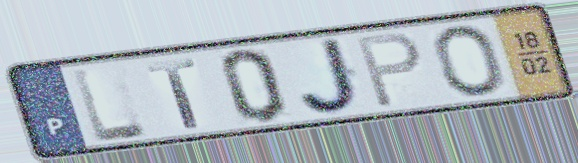0: (219, 46, 292, 126)
J: (295, 35, 367, 118)
L: (68, 64, 153, 145)
O: (431, 24, 507, 99)
P: (353, 30, 425, 111)
T: (143, 56, 203, 131)
